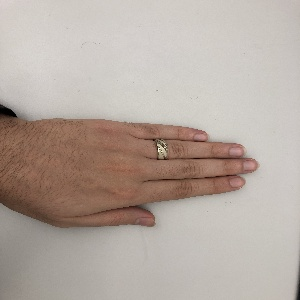hand: (31, 119, 259, 227)
